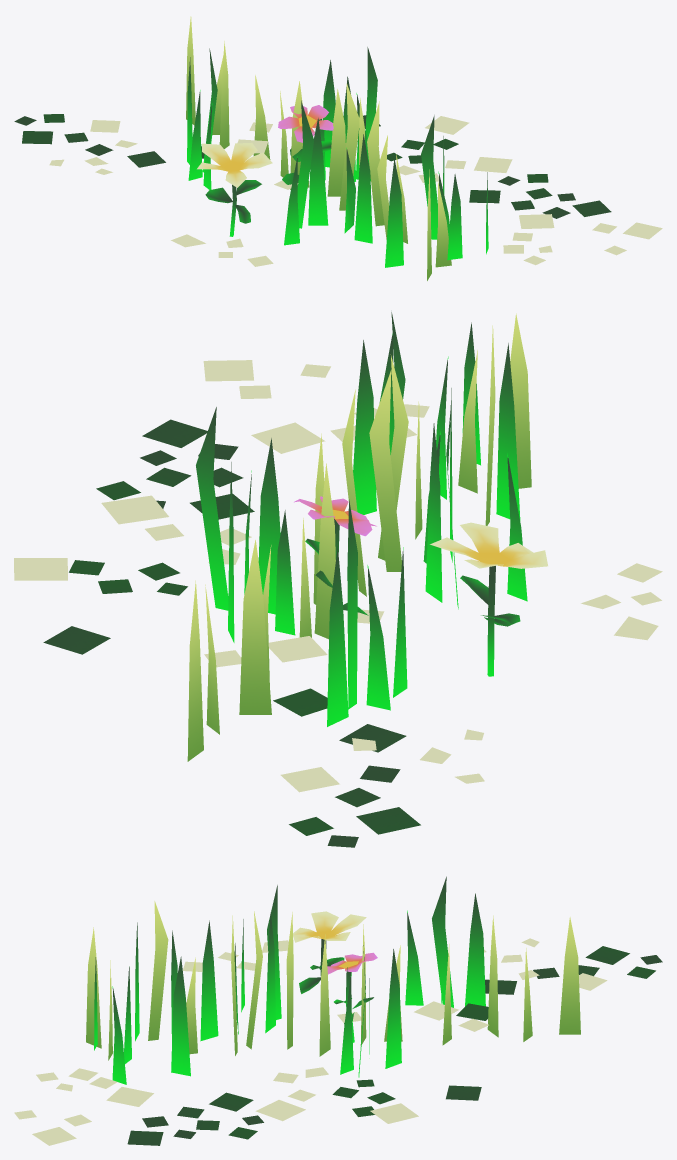
Rendered from Plant.fbx.
3 views of the same model, one above another, from view 1: azimuth 30°, elevation 25°; view 2: azimuth 150°, elevation 25°; view 3: azimuth 270°, elevation 25° (orthographic). The views are drawn at different scales.
Parts seen in each view (by area): view 1: SM_Grass_06, SM_Grass_01, SM_Clover_02, SM_Clover_01, SM_Flowe_01, SM_Flower_03; view 2: SM_Grass_06, SM_Grass_01, SM_Clover_02, SM_Clover_01, SM_Flowe_01, SM_Flower_03; view 3: SM_Grass_06, SM_Grass_01, SM_Clover_02, SM_Clover_01, SM_Flowe_01, SM_Flower_03.
Part boxes in pixels (bbox=[...]): SM_Grass_06: bbox=[187, 47, 488, 267]; SM_Grass_01: bbox=[186, 16, 451, 280]; SM_Clover_02: bbox=[49, 116, 662, 266]; SM_Clover_01: bbox=[14, 114, 611, 218]; SM_Flowe_01: bbox=[197, 142, 272, 236]; SM_Flower_03: bbox=[278, 105, 333, 185]; SM_Grass_06: bbox=[196, 312, 527, 726]; SM_Grass_01: bbox=[187, 313, 531, 761]; SM_Clover_02: bbox=[14, 360, 662, 792]; SM_Clover_01: bbox=[43, 419, 420, 847]; SM_Flowe_01: bbox=[430, 522, 547, 676]; SM_Flower_03: bbox=[294, 496, 376, 615]; SM_Grass_06: bbox=[94, 876, 485, 1084]; SM_Grass_01: bbox=[86, 901, 580, 1060]; SM_Clover_02: bbox=[14, 938, 607, 1145]; SM_Clover_01: bbox=[127, 946, 662, 1145]; SM_Flowe_01: bbox=[289, 911, 366, 993]; SM_Flower_03: bbox=[327, 952, 377, 1042].
Bounding box in the file's own units: 132 × 45.17 × 172.
1 material, 1 textured.
